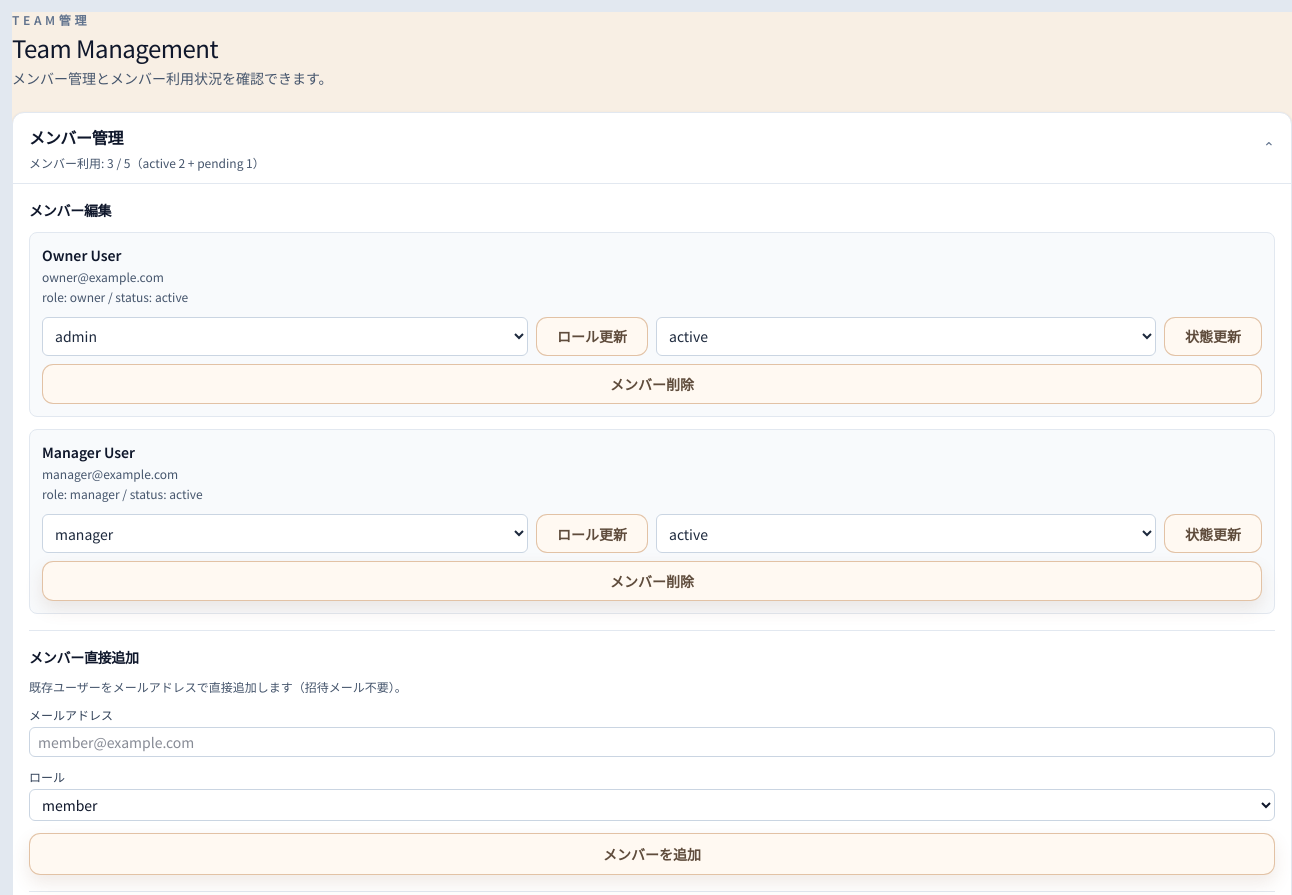
it: TeamManagementPage › deletes a member from team management section
Step 1. Click the button "メンバー削除" below "manager@example.com" → (652, 581), box [42, 561, 1262, 601]
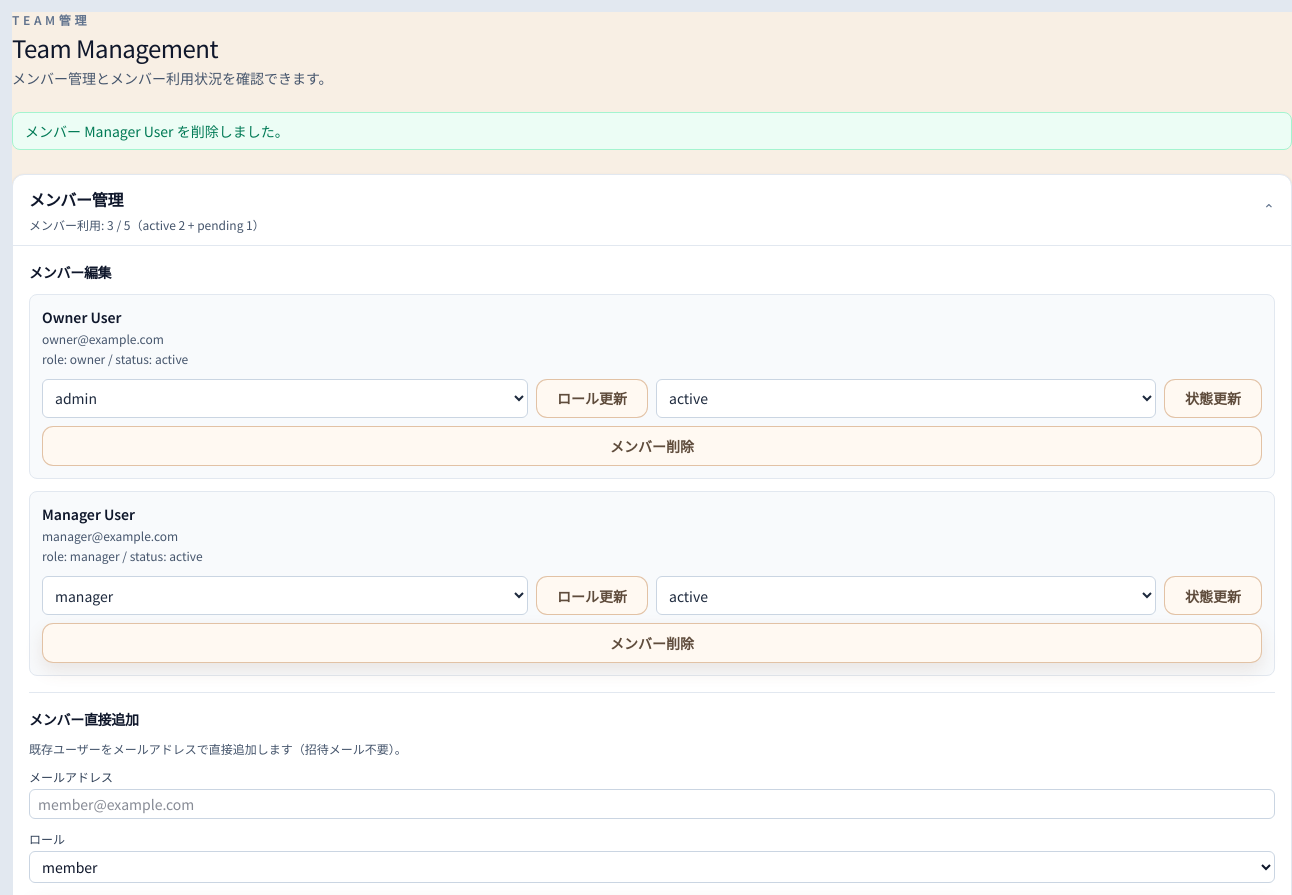
Check: the text "メンバー Manager User を削除しました。" is shown, box [12, 112, 1291, 150]
